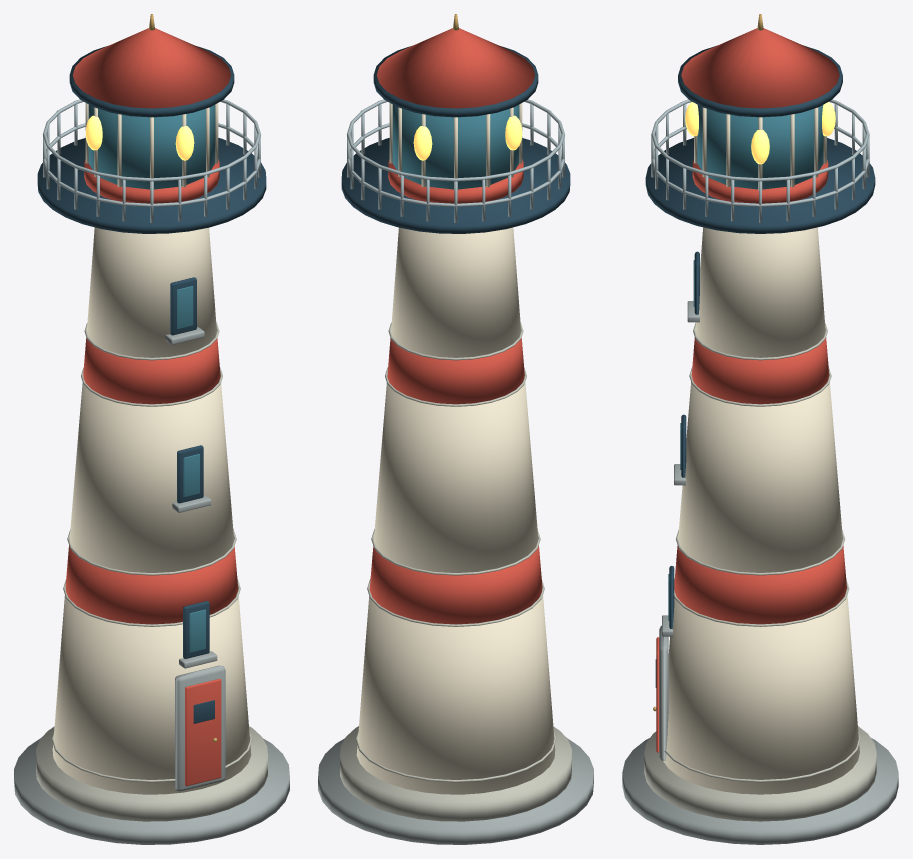
The model's file is lighthouse.glb.
3 views of the same model, side by side, from view 1: azimuth 30°, elevation 25°; view 2: azimuth 150°, elevation 25°; view 3: azimuth 270°, elevation 25° (orthographic).
Parts seen in each view (by area): view 1: lighthouse_Ivory, lighthouse_Paint, lighthouse_Navy, lighthouse_Stone, lighthouse_Concrete, lighthouse_Glass, lighthouse_Aluminium, lighthouse_Glow; view 2: lighthouse_Ivory, lighthouse_Paint, lighthouse_Concrete, lighthouse_Navy, lighthouse_Stone, lighthouse_Glass, lighthouse_Aluminium, lighthouse_Glow; view 3: lighthouse_Ivory, lighthouse_Paint, lighthouse_Navy, lighthouse_Stone, lighthouse_Concrete, lighthouse_Glass, lighthouse_Aluminium, lighthouse_Glow.
Part boxes in pixels (x1,y1,x2,y2): lighthouse_Ivory: [52, 103, 251, 794]; lighthouse_Paint: [65, 28, 238, 786]; lighthouse_Navy: [37, 46, 266, 723]; lighthouse_Stone: [14, 327, 289, 844]; lighthouse_Concrete: [36, 323, 267, 821]; lighthouse_Glass: [88, 105, 215, 652]; lighthouse_Aluminium: [43, 99, 260, 222]; lighthouse_Glow: [85, 115, 194, 160]; lighthouse_Ivory: [356, 103, 555, 794]; lighthouse_Paint: [369, 28, 542, 624]; lighthouse_Concrete: [340, 323, 571, 821]; lighthouse_Navy: [341, 46, 570, 233]; lighthouse_Stone: [318, 737, 593, 844]; lighthouse_Glass: [392, 105, 519, 189]; lighthouse_Aluminium: [347, 99, 564, 222]; lighthouse_Glow: [413, 115, 522, 160]; lighthouse_Ivory: [663, 107, 859, 794]; lighthouse_Paint: [656, 28, 846, 752]; lighthouse_Navy: [645, 45, 875, 687]; lighthouse_Stone: [622, 301, 898, 844]; lighthouse_Concrete: [644, 323, 876, 821]; lighthouse_Glass: [668, 105, 823, 620]; lighthouse_Aluminium: [651, 99, 869, 222]; lighthouse_Glow: [685, 102, 835, 164].
Size of the model in its own units: 5.3 by 16.34 by 5.3.
